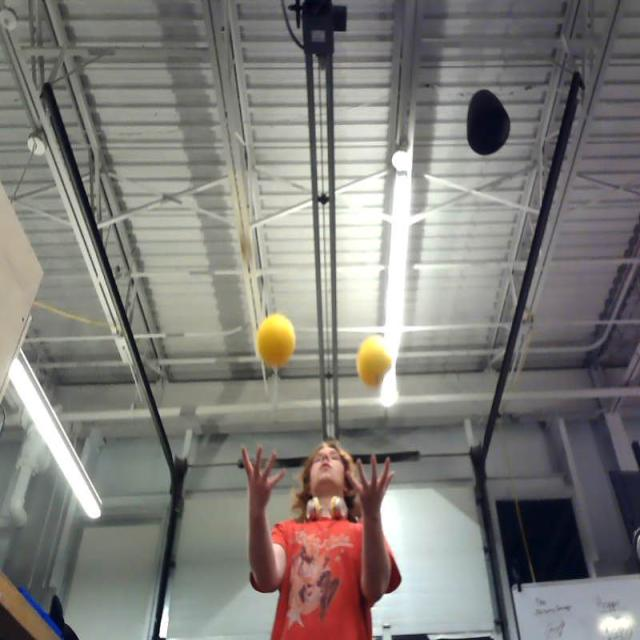Fuel: (257, 314, 295, 368), (358, 335, 393, 388)
